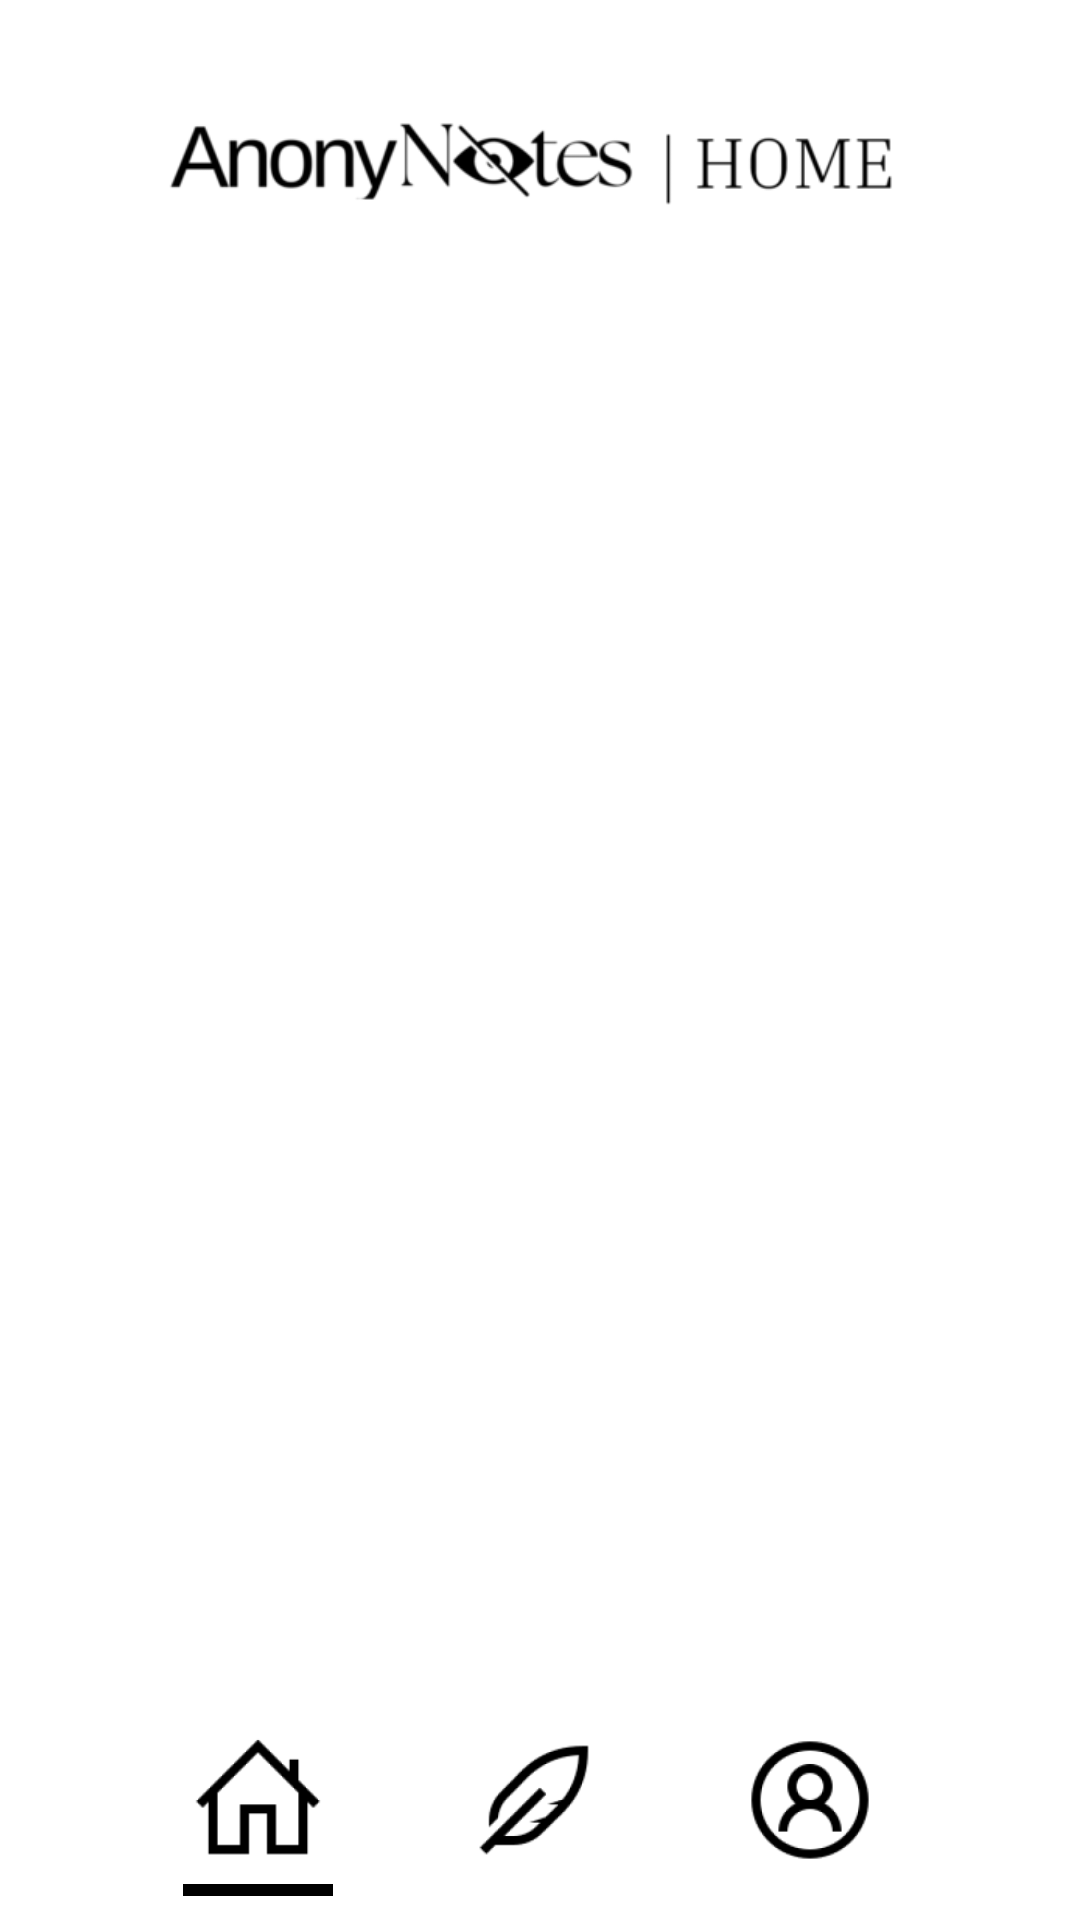

Screen size 1080*1920. Icon name, then its box in pixels as (left=x1, top=y1, right=x2, bottom=y2):
Home: (left=196, top=1740, right=320, bottom=1855)
Quill: (left=479, top=1745, right=589, bottom=1855)
User: (left=751, top=1741, right=869, bottom=1859)
